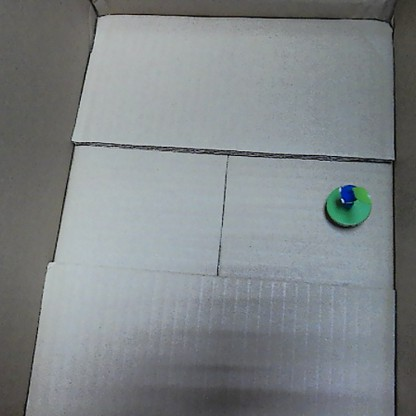leafairy: (321, 178, 373, 230)
